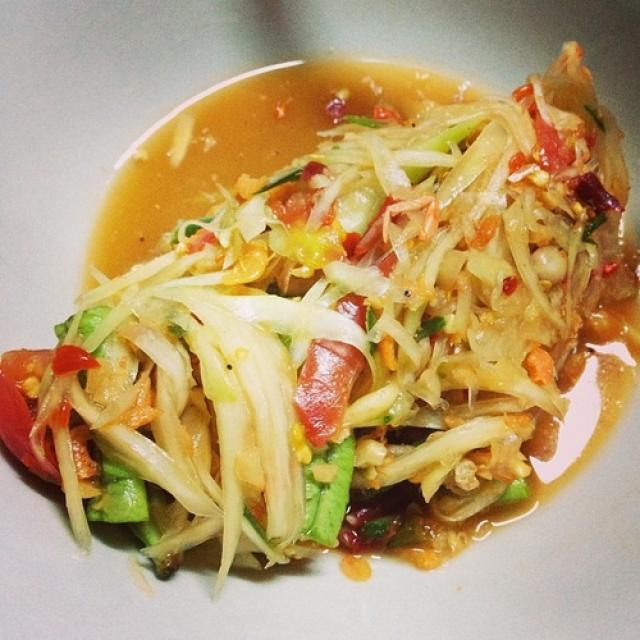蔬菜料理: (29, 10, 621, 611)
